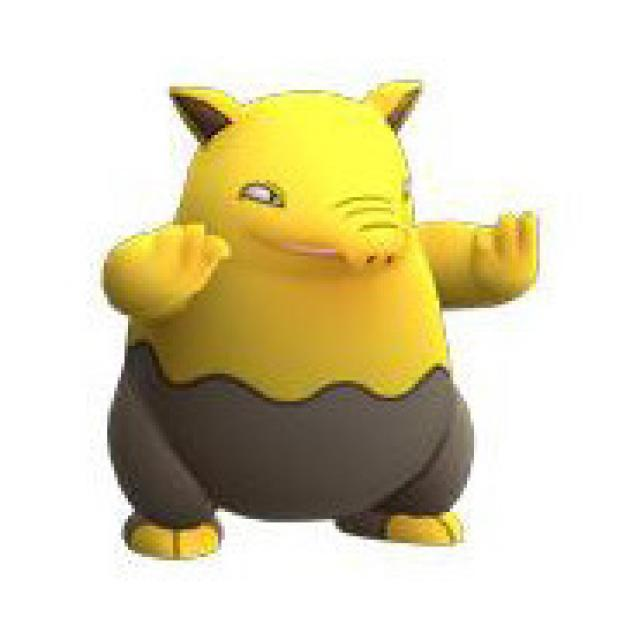Drowzee: (93, 74, 540, 558)
